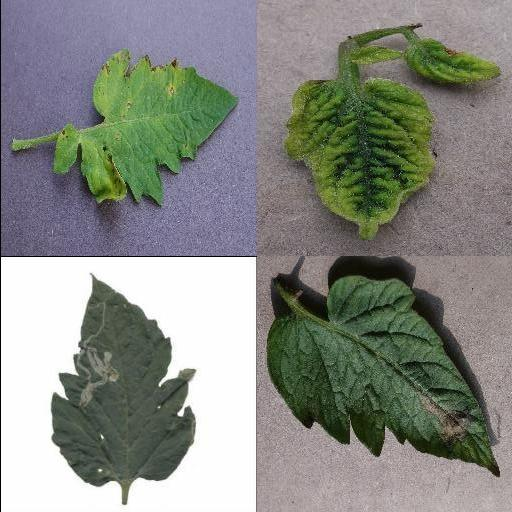Late Blight: (266, 277, 500, 479)
Leaf Miner: (50, 273, 198, 487)
Septoria: (51, 51, 239, 206)
Yellow Leaf Curl Virus: (281, 81, 433, 243), (405, 38, 501, 86), (343, 44, 401, 64)
